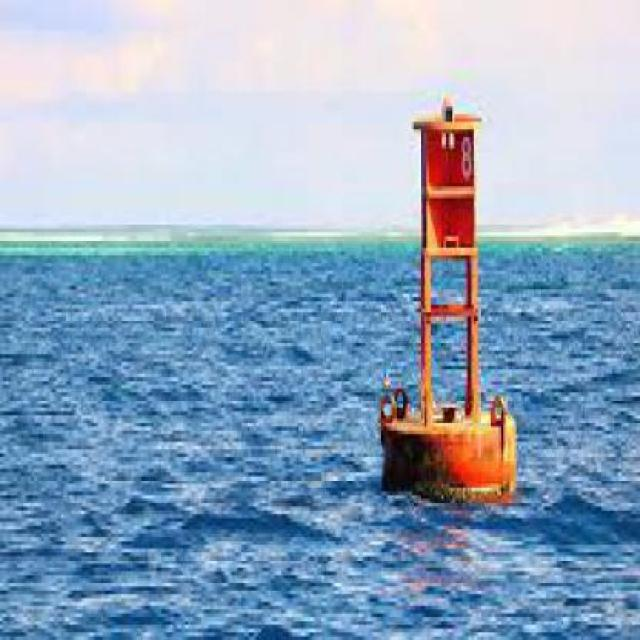buoy: (362, 88, 528, 516)
